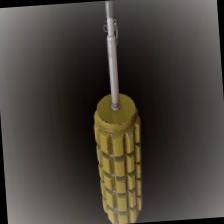POMZ2: (78, 0, 148, 224)
